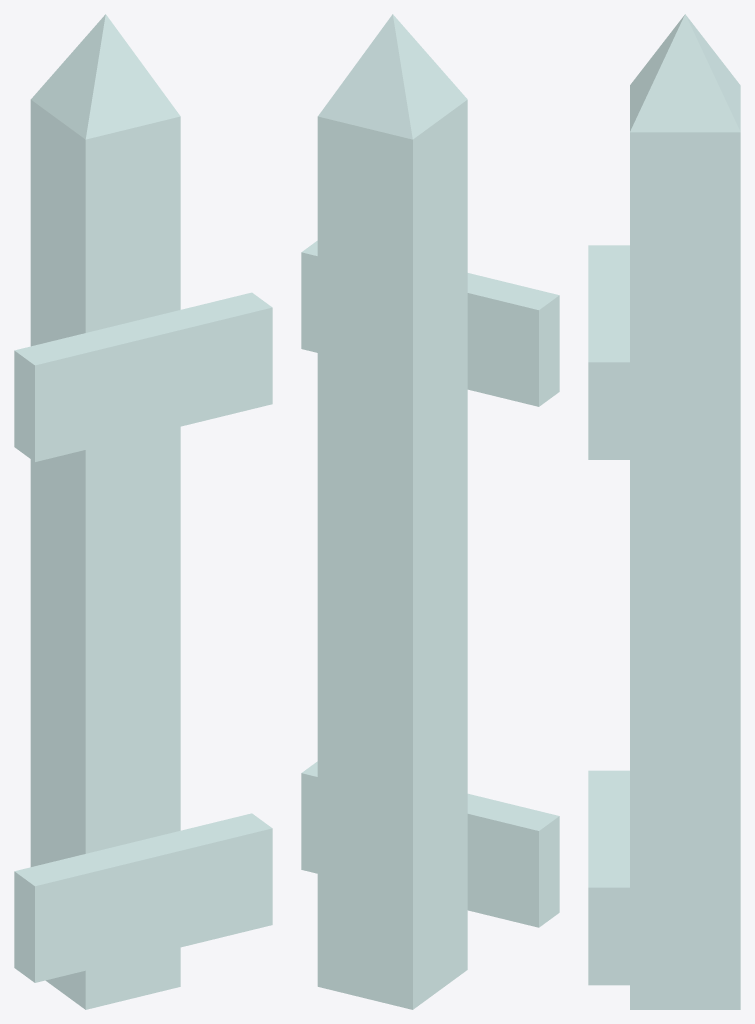
File: tmg-waldo_envir_fence-01_spoke-a.glb
3 views of the same model, side by side, from view 1: azimuth 30°, elevation 25°; view 2: azimuth 150°, elevation 25°; view 3: azimuth 270°, elevation 25° (orthographic).
Parts seen in each view (by area): view 1: envir_fence-01_spoke-a; view 2: envir_fence-01_spoke-a; view 3: envir_fence-01_spoke-a.
Part boxes in pixels (x1,y1,x2,y2): envir_fence-01_spoke-a: (14,14,272,1009); envir_fence-01_spoke-a: (301,14,559,1009); envir_fence-01_spoke-a: (588,14,740,1009).
Bounding box in the file's own units: 0.34 × 1.32 × 0.187.
Materials: 1 (1 with a texture image).
